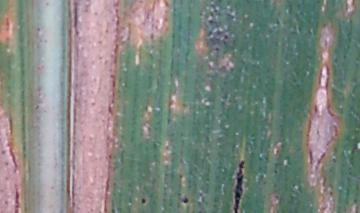tarspot: (230, 157, 247, 213), (178, 193, 191, 207), (139, 195, 150, 208)
